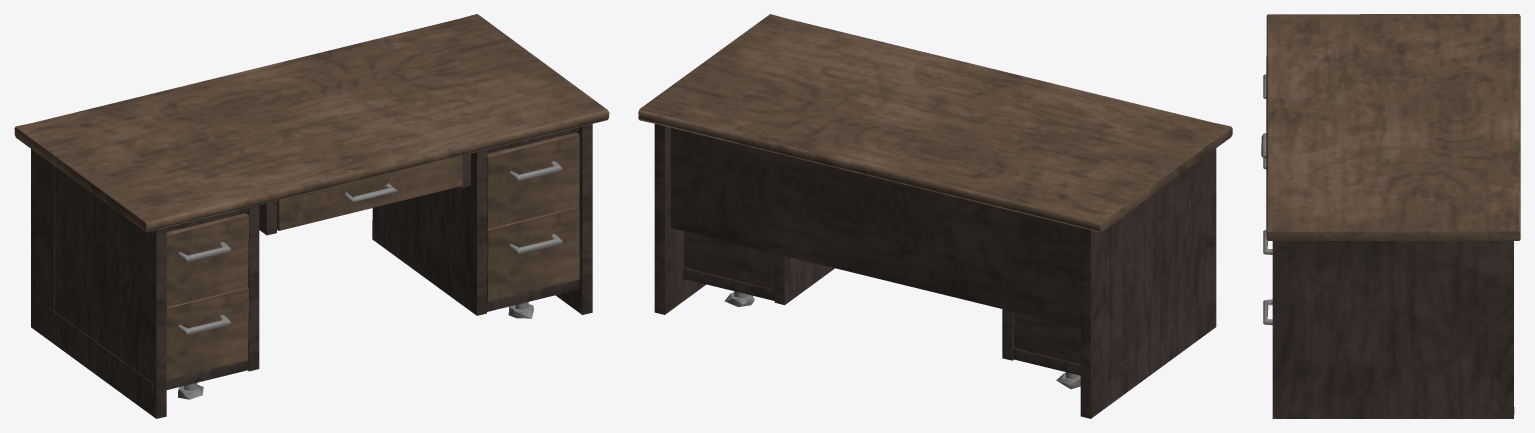
Rendered from SM_Office_Table2_4X.glb.
The picture shows the model from 3 angles, left to right: view 1: azimuth 30°, elevation 25°; view 2: azimuth 150°, elevation 25°; view 3: azimuth 270°, elevation 25°; orthographic projection. The views are drawn at different scales.
Visible parts, largest first — view 1: SM_Office_Table2_4X; view 2: SM_Office_Table2_4X; view 3: SM_Office_Table2_4X.
Part boxes in pixels (bbox=[...]): SM_Office_Table2_4X: bbox=[14, 14, 609, 418]; SM_Office_Table2_4X: bbox=[638, 14, 1232, 418]; SM_Office_Table2_4X: bbox=[1261, 14, 1520, 418].
Bounding box in the file's own units: 1.99 × 0.8371 × 1.01.
1 material, 1 textured.
